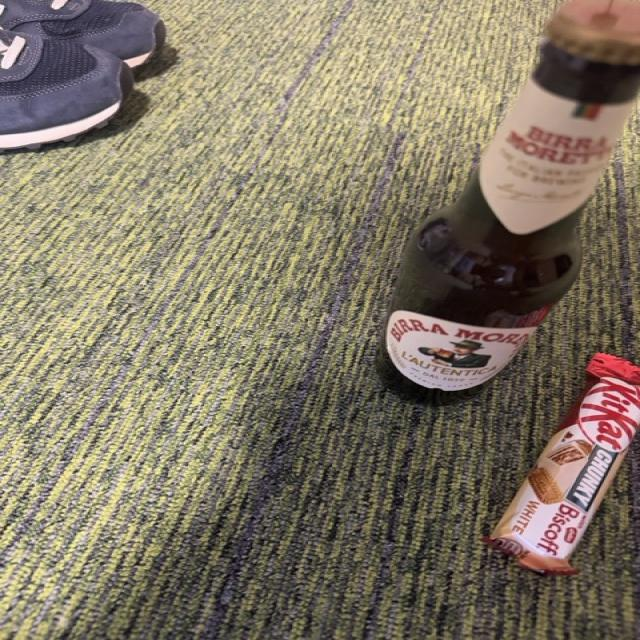beer: (368, 0, 640, 412)
chocolate: (470, 341, 640, 584)
